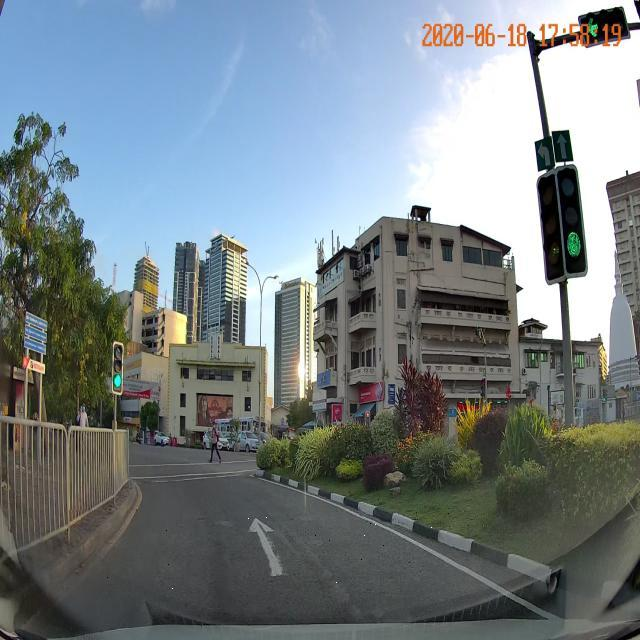forward: (69, 510, 462, 589)
